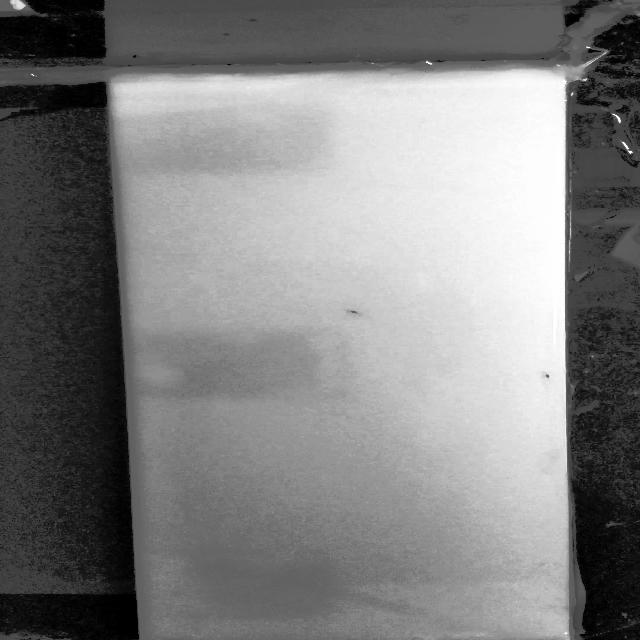shrimp: (536, 370, 566, 385), (341, 306, 368, 320)
